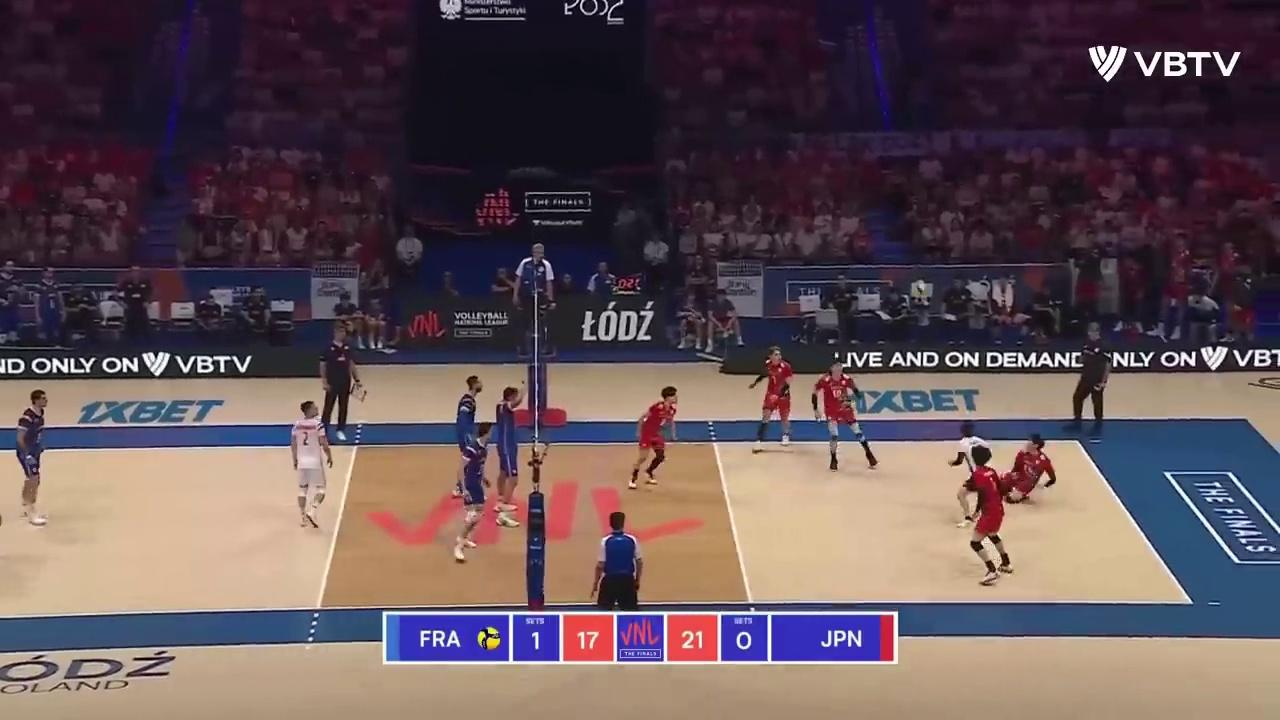ball: (915, 283, 926, 296)
